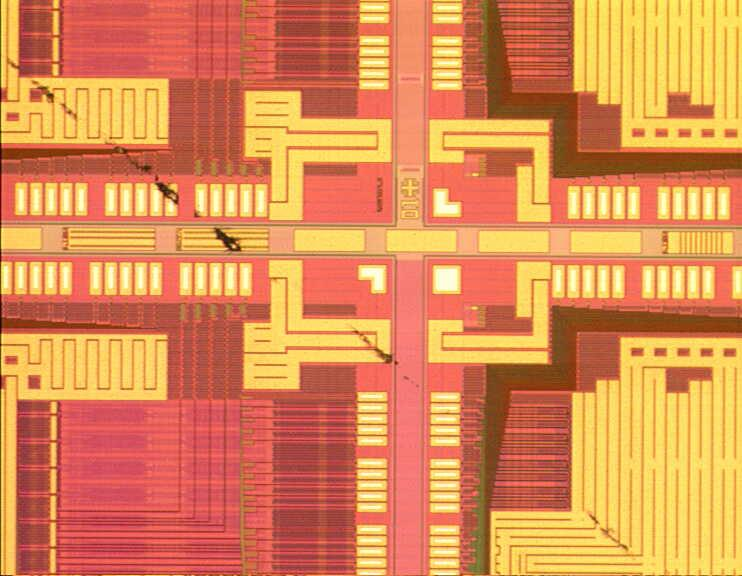SCRATCH: (1, 42, 669, 576)
